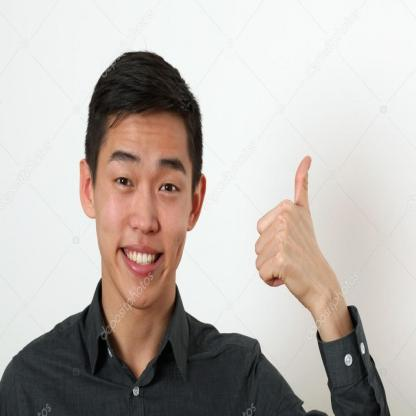Thumbs-Up: (252, 148, 334, 309)
